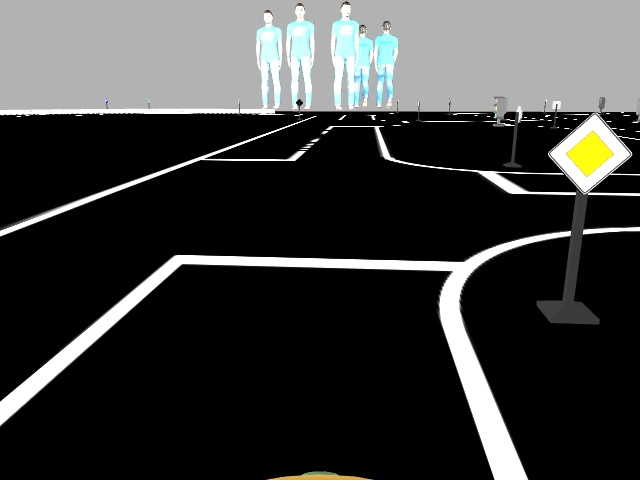Priority: (545, 111, 632, 196)
